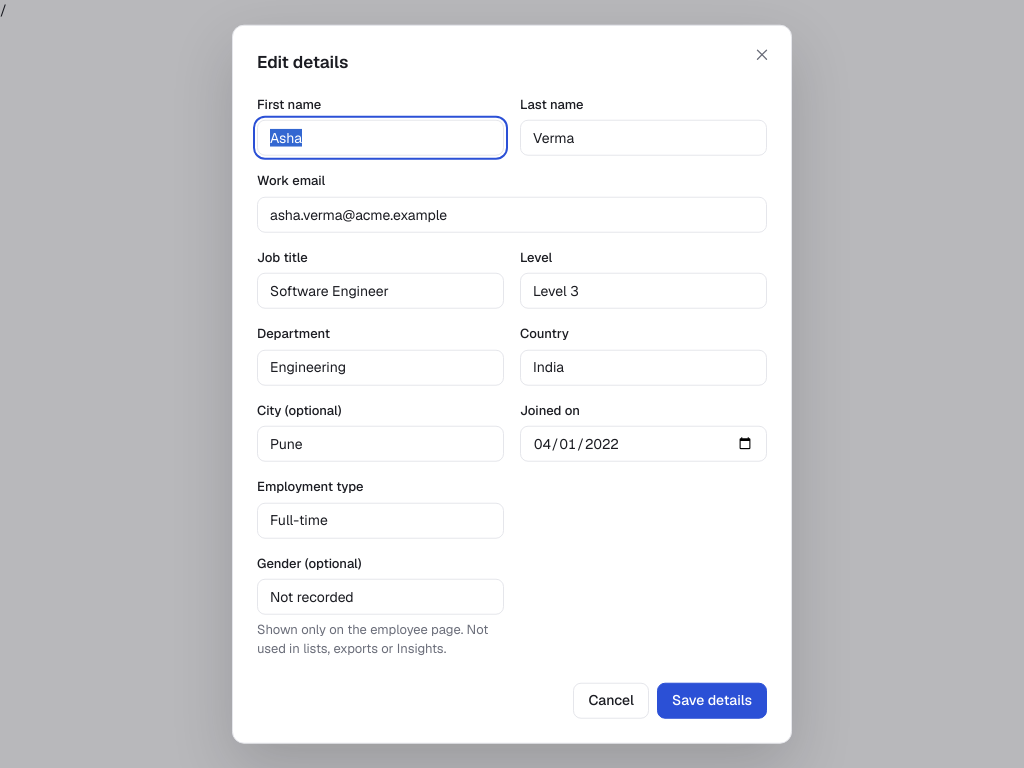
it: Edit details › shows the server's field errors
In the date field labelled "Joined on": (644, 444) [520,426,767,462], type "2026-12-01"
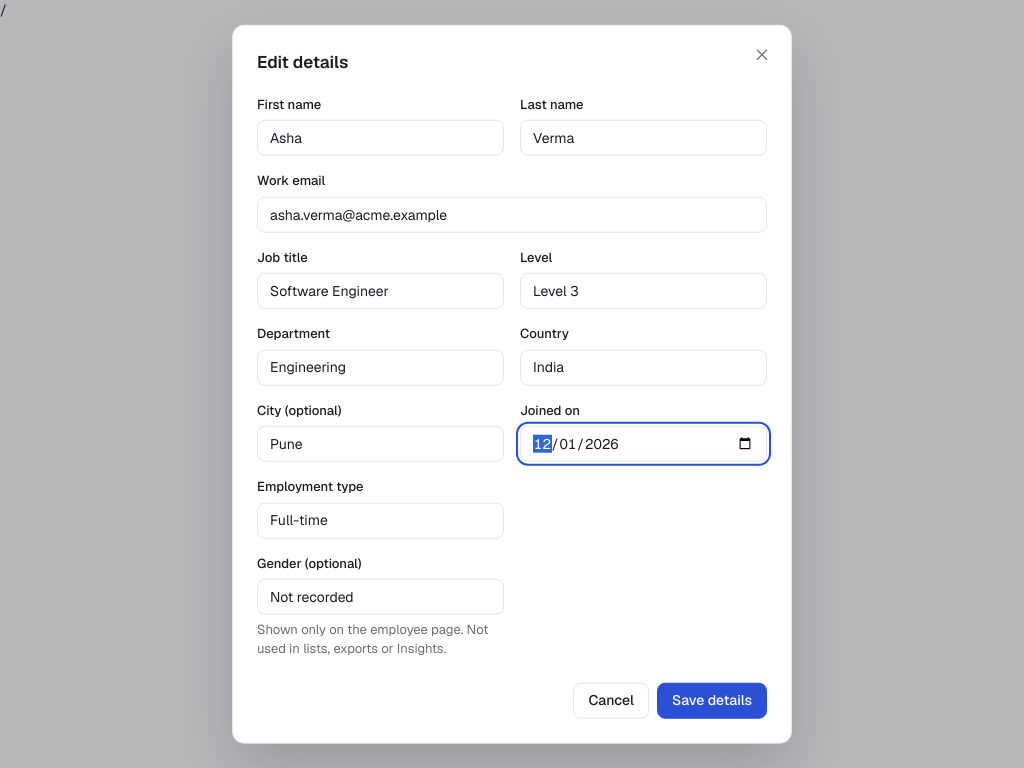
Click the button "Save details": (712, 700) [657,682,767,718]
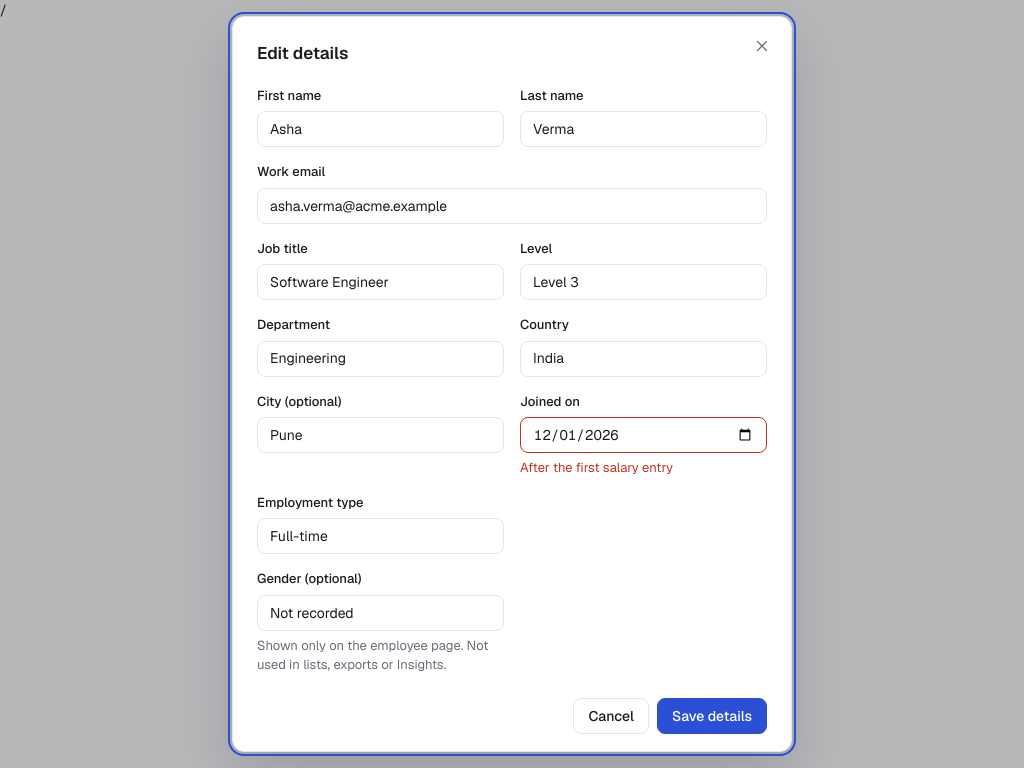
Result: the text "After the first salary entry" is shown at [520,459,673,476]
